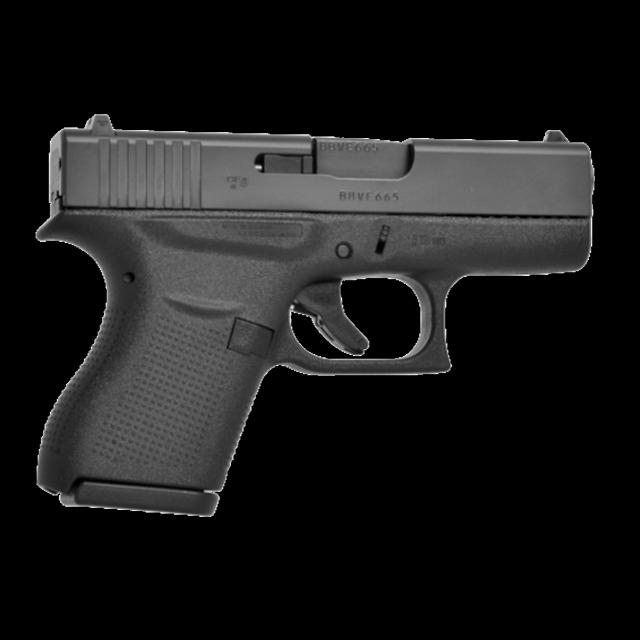Weapon: (37, 115, 593, 514)
